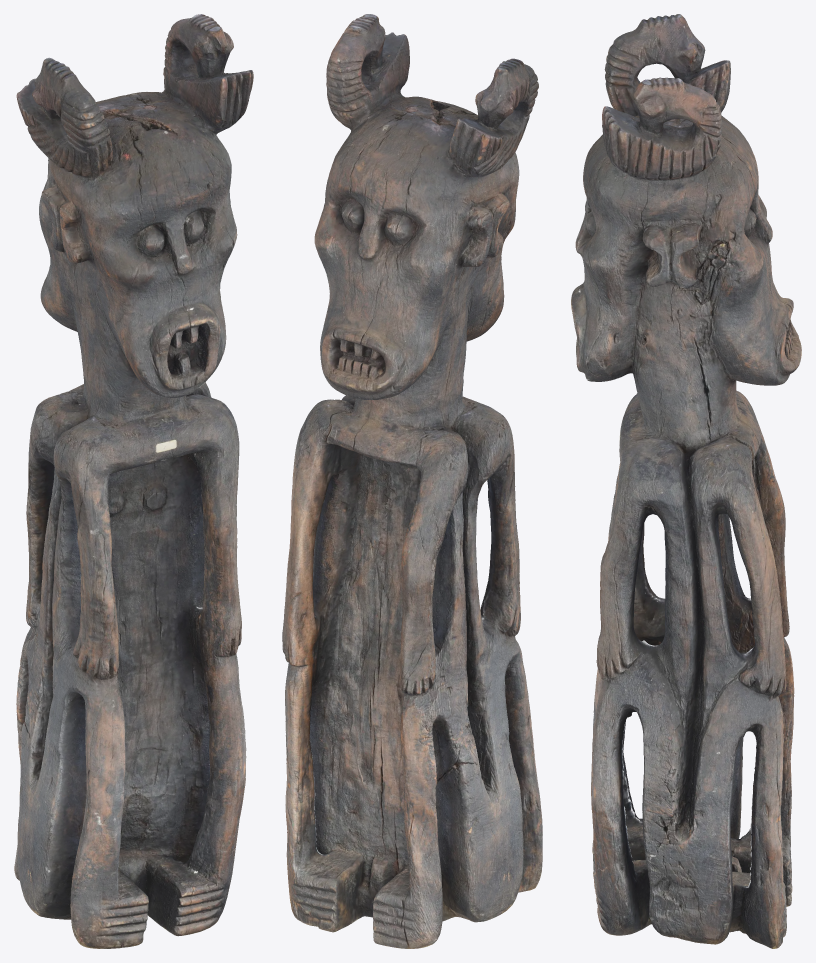
The model's file is patung-tetun.glb.
The picture shows the model from 3 angles, left to right: view 1: azimuth 30°, elevation 25°; view 2: azimuth 150°, elevation 25°; view 3: azimuth 270°, elevation 25°; orthographic projection. The views are drawn at different scales.
Parts seen in each view (by area): view 1: Object_8, Object_4, Object_10, Object_2, Object_6, Object_12; view 2: Object_6, Object_2, Object_10, Object_4, Object_8, Object_12; view 3: Object_10, Object_4, Object_8, Object_2, Object_6, Object_12.
Boxes of the visible parts, x1=… form: Object_8: x1=14, y1=107, x2=246, y2=948; Object_4: x1=16, y1=252, x2=238, y2=763; Object_10: x1=16, y1=16, x2=240, y2=919; Object_2: x1=27, y1=400, x2=245, y2=845; Object_6: x1=17, y1=92, x2=243, y2=941; Object_12: x1=32, y1=14, x2=253, y2=905; Object_6: x1=287, y1=102, x2=542, y2=948; Object_2: x1=282, y1=418, x2=520, y2=859; Object_10: x1=285, y1=14, x2=538, y2=922; Object_4: x1=294, y1=233, x2=514, y2=867; Object_8: x1=321, y1=100, x2=542, y2=947; Object_12: x1=285, y1=23, x2=524, y2=927; Object_10: x1=576, y1=14, x2=793, y2=937; Object_4: x1=571, y1=282, x2=794, y2=811; Object_8: x1=571, y1=73, x2=791, y2=944; Object_2: x1=592, y1=390, x2=786, y2=939; Object_6: x1=592, y1=64, x2=801, y2=948; Object_12: x1=576, y1=76, x2=783, y2=938.
Bounding box in the file's own units: 0.0544 × 0.2344 × 0.0566.
6 materials, 6 textured.
